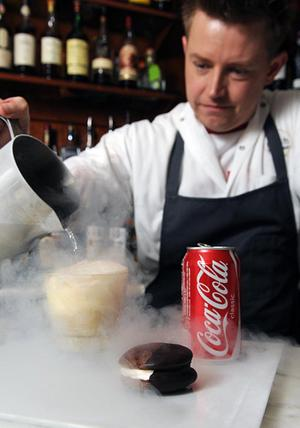person: (2, 3, 300, 346)
